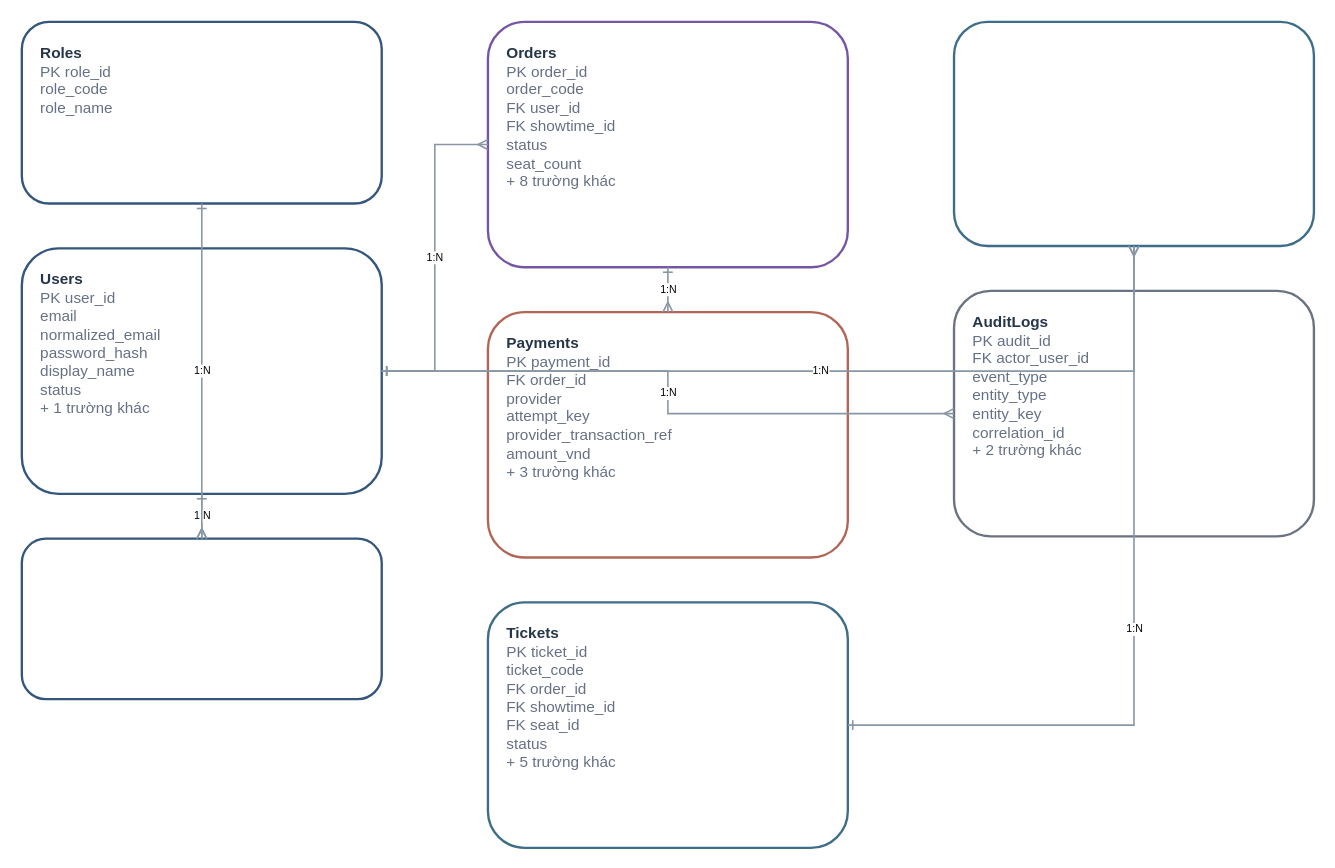
The diagram is 1335 pixels wide and 868 high, and some of its shapes have lost their labels. Each missing label, with the centre of its shape:
"TicketScans PK scan_id FK ticket_id FK staff_user_id scanned_utc outcome" belongs at (1133,133).
"UserRoles PK user_id PK role_id" belongs at (201,618).
